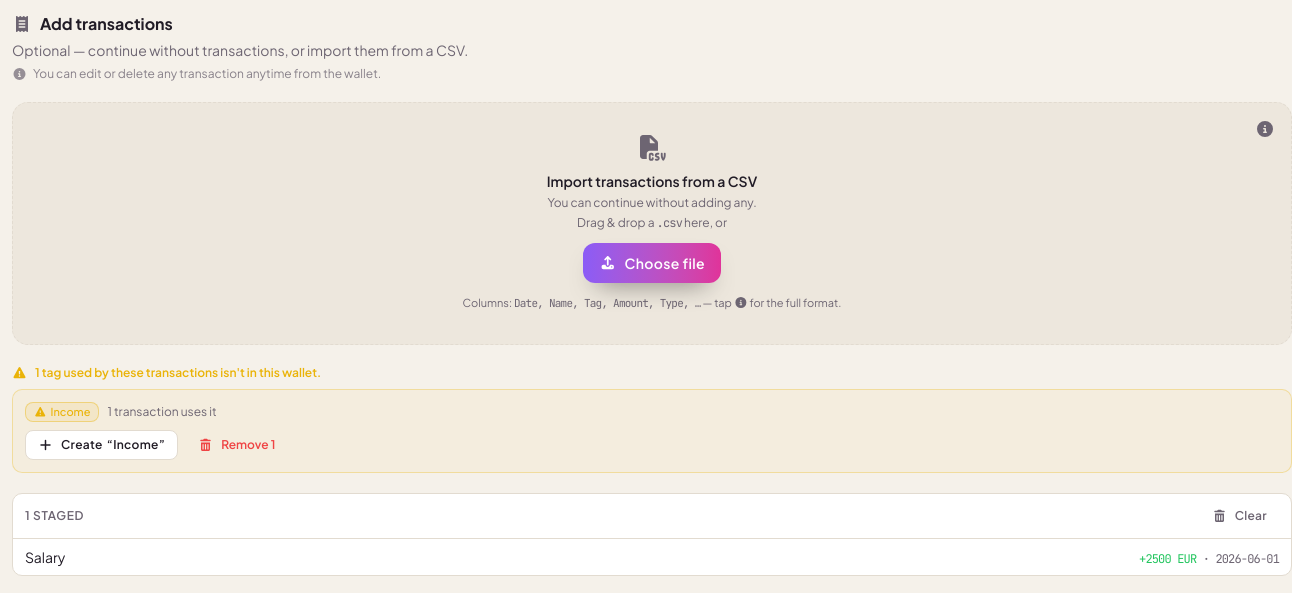
TransactionsStep › empties the staged list when Clear is pressed
Expected: the text "Salary" is shown, [25,547,65,567]
Click the button "Clear".
click(1239, 516)  # box [1200,502,1279,530]
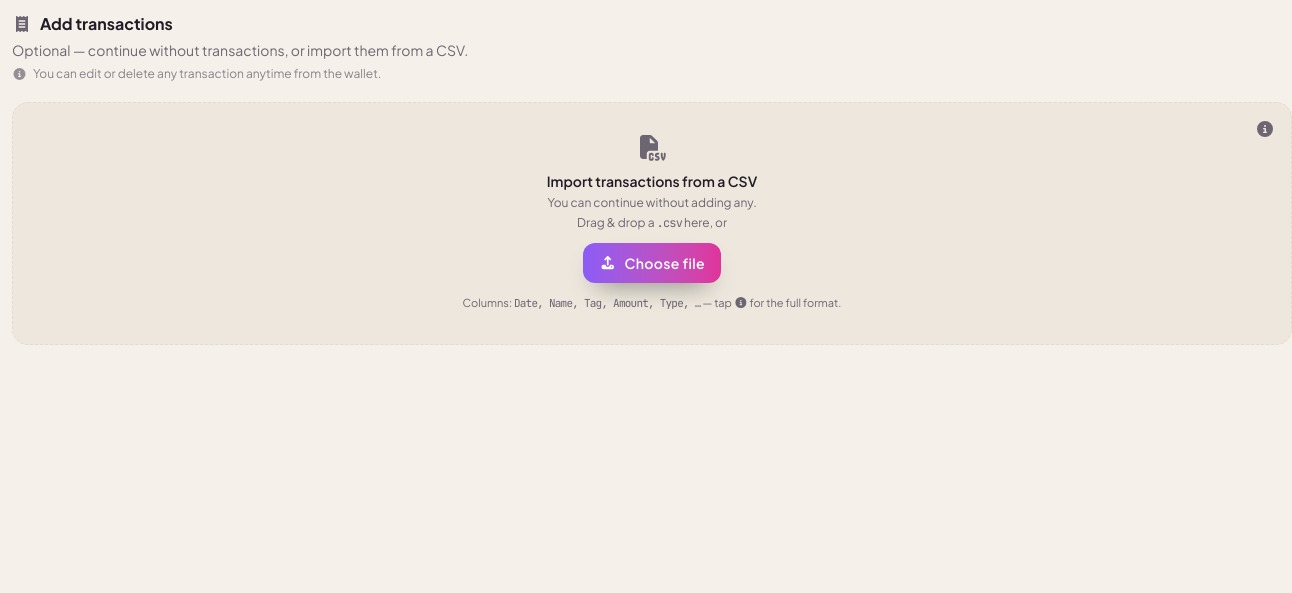
Now the text "Salary" is gone
